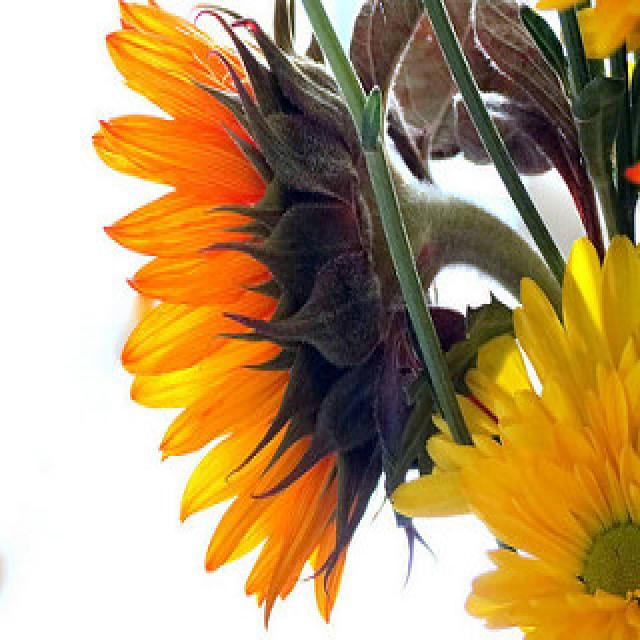sunflower: (87, 0, 451, 632)
